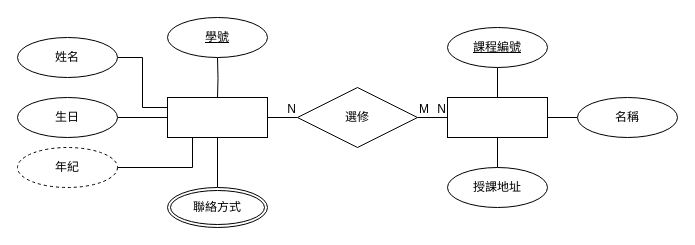
Some shapes in this 695 by 245 pixel diagram are drawn without their labels. Here are the shapes that lost their labels. From the top down, the box of each, then its label:
(166, 96, 268, 138): 學生
(446, 96, 548, 138): 課程
